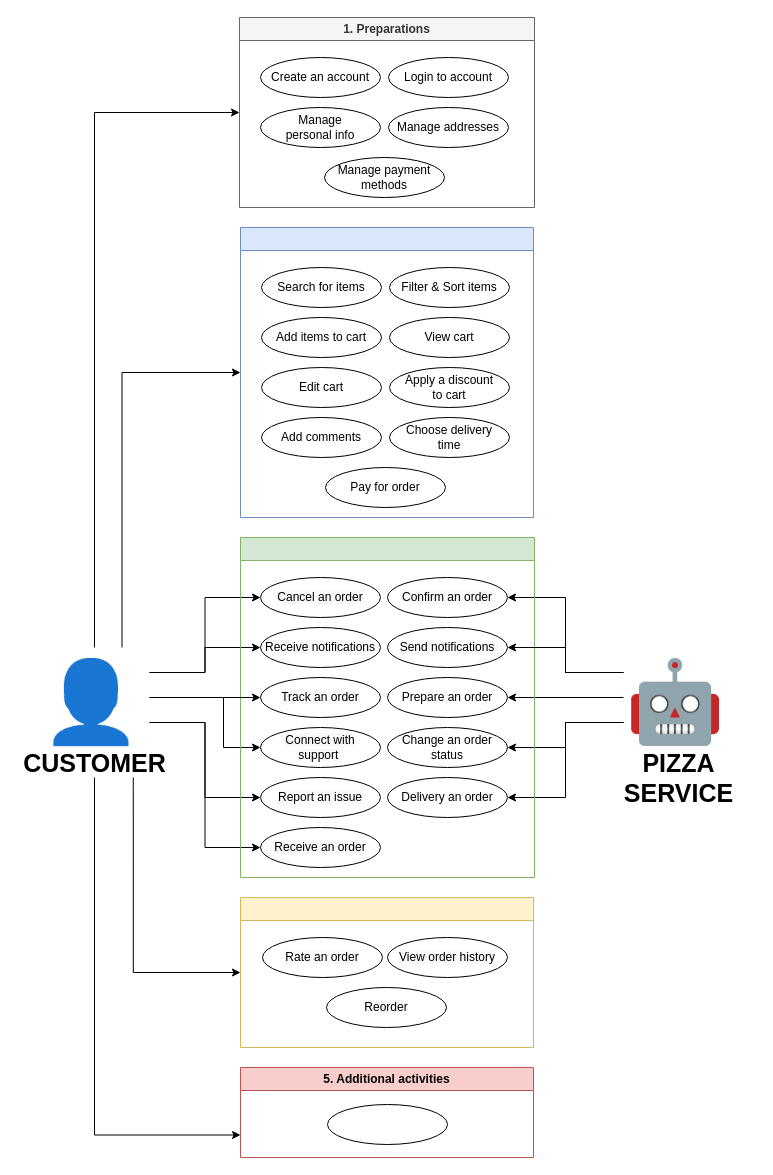
Some shapes in this 773 by 1175 pixel diagram are drawn without their labels. Each missing label, with the centre of its shape:
"2. Placing an order" goes at (387,372).
"3. Order processing" goes at (387,707).
"4. Post-order activities" goes at (387,972).
"Delete an account" goes at (387,1124).
